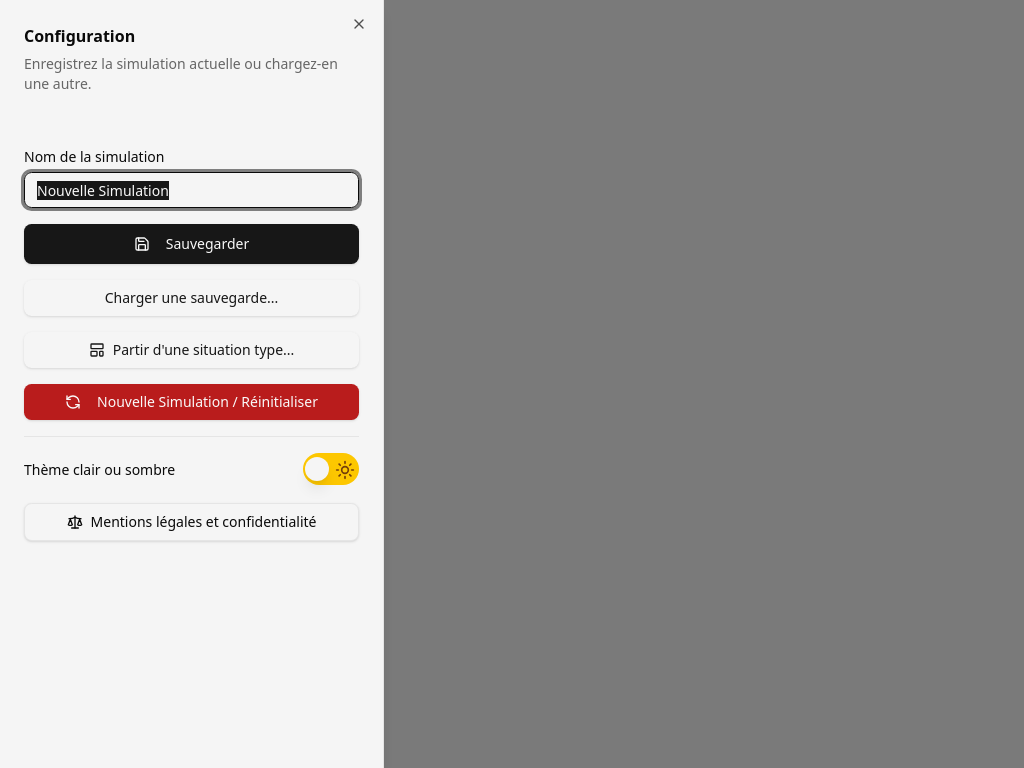
it: SettingsSheet, import de sauvegardes › ajoute les sauvegardes du fichier après les existantes, les enregistre et affiche le bilan
This screenshot has width=1024, height=768.
Click the button "Charger une sauvegarde...". click: (192, 298)
box: [24, 280, 359, 316]
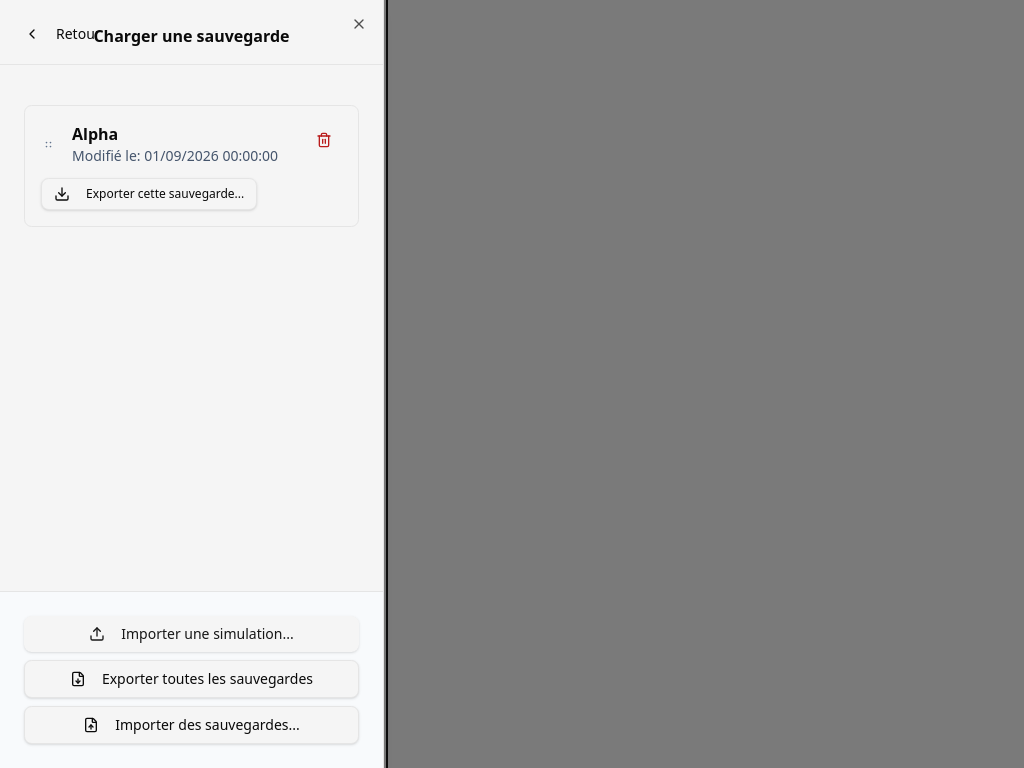
Click the button "Importer des sauvegardes...". click: (192, 725)
box: [24, 706, 359, 744]
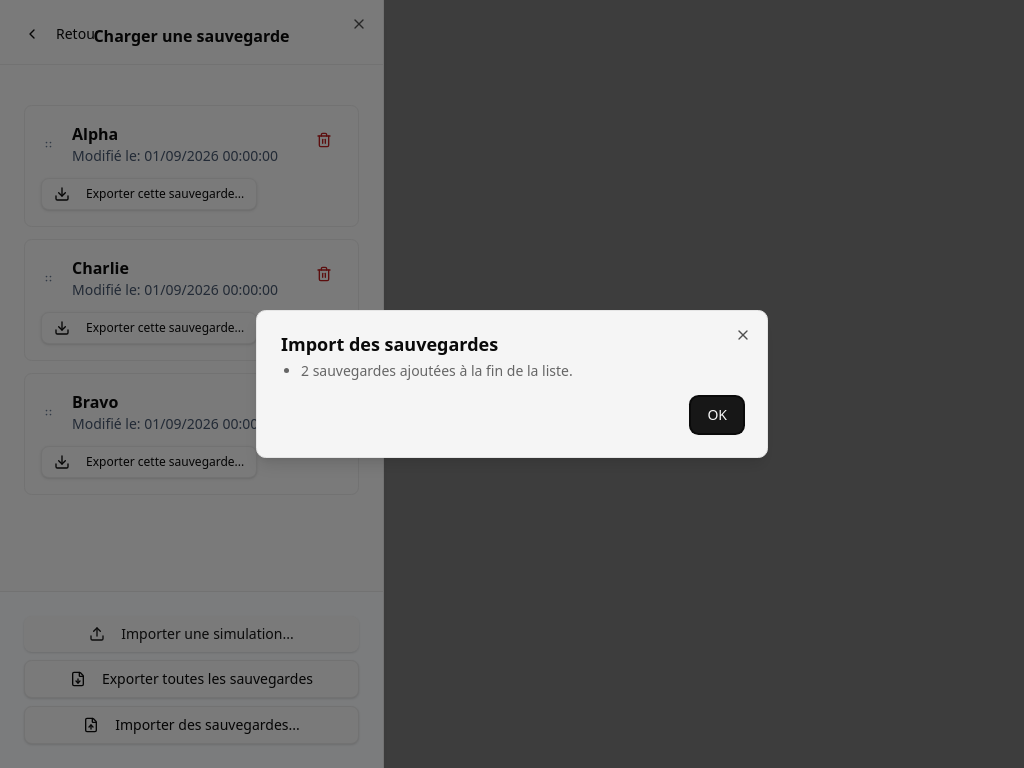
expect the dialog "Import des sauvegardes" shows "2 sauvegardes ajoutées à la fin de la liste.": met, box [301, 361, 573, 380]
Click the button "OK". click: (717, 415)
box: [691, 397, 743, 433]
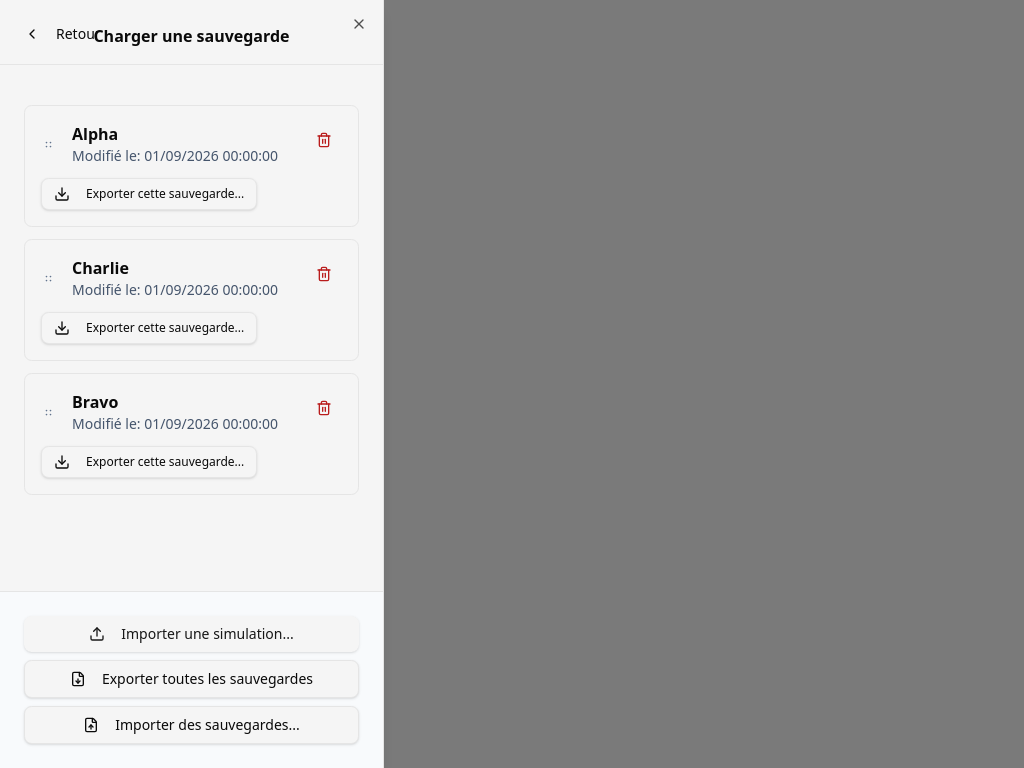
expect the heading "Import des sauvegardes" is gone: met
